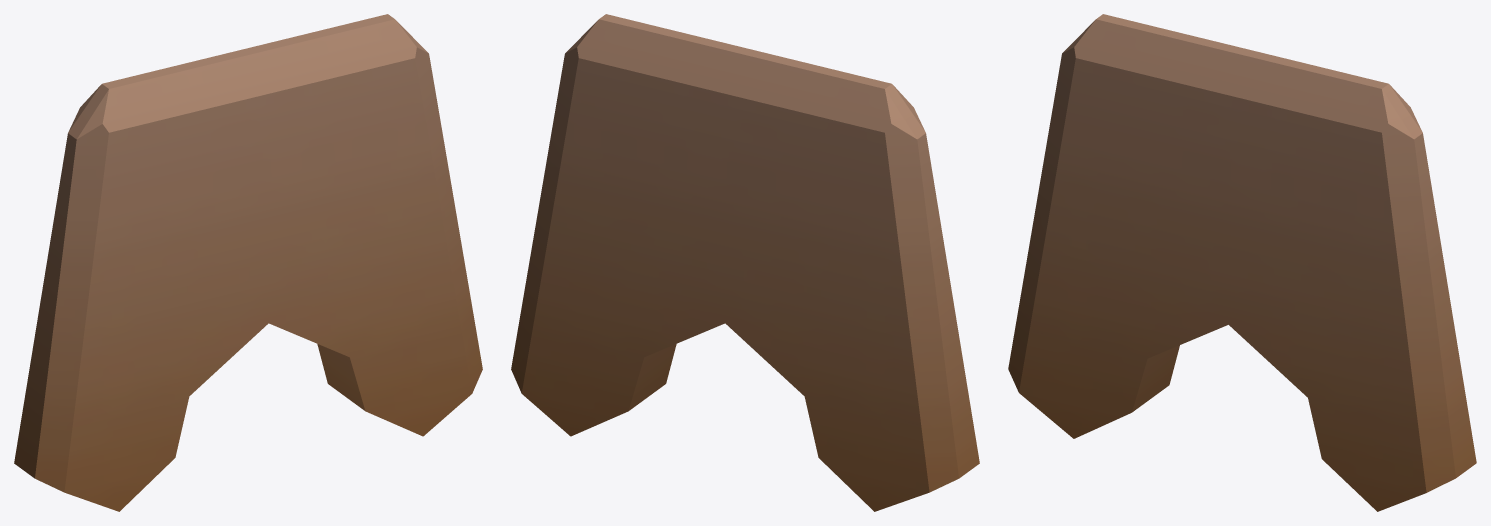
Rendered from SM_Laundry_01.fbx.
3 renders of one model, left to right at view 1: azimuth 30°, elevation 25°; view 2: azimuth 150°, elevation 25°; view 3: azimuth 330°, elevation 25°, orthographic.
Parts seen in each view (by area): view 1: laundry_01; view 2: laundry_01; view 3: laundry_01.
Boxes of the visible parts, box(x1,y1,x2,y2) form: laundry_01: box(14, 14, 482, 511); laundry_01: box(511, 14, 979, 511); laundry_01: box(1008, 14, 1476, 511).
Size of the model in its own units: 62.56 by 54.65 by 9.58.
